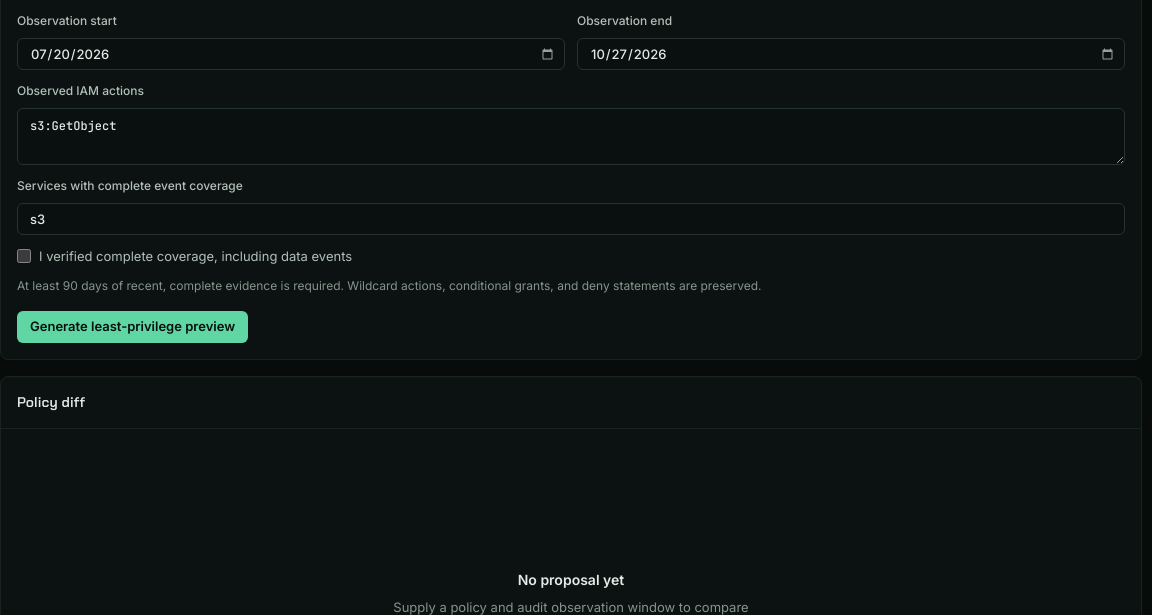
Test: Remediation hub › requires explicit coverage attestation and sends original evidence
The image size is (1152, 615).
(page scrolled)
What coordinates should you click on to do the following:
click the checkbox labelled "I verified complete coverage, including data events"
I would click on:
 (24, 256)
Its box is [17,249,31,263].
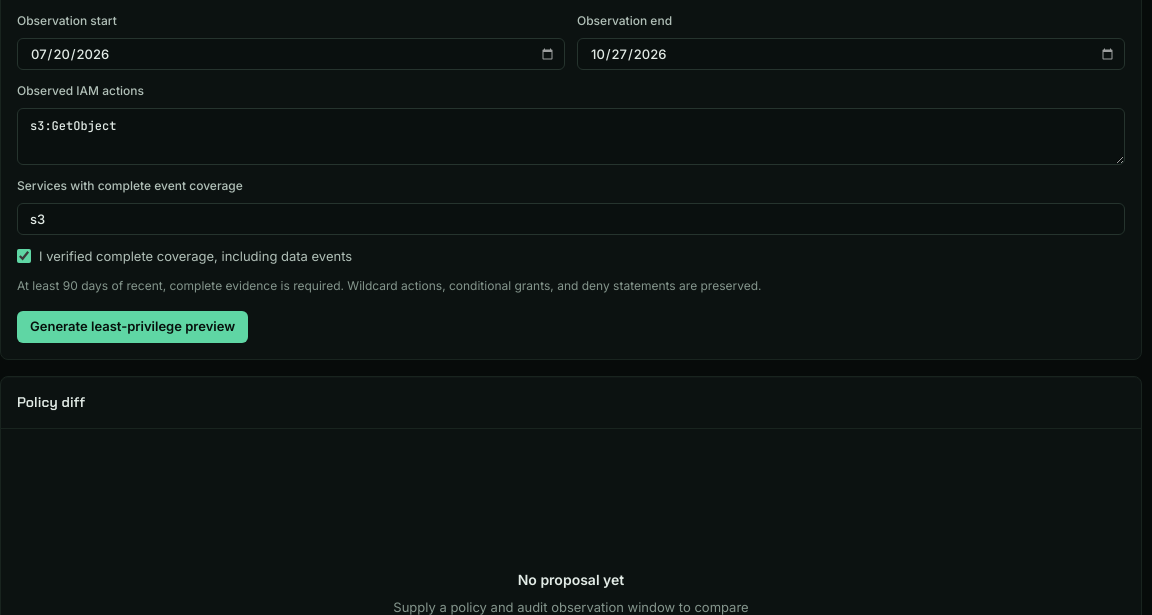
What coordinates should you click on to do the following:
click the button "Generate least-privilege preview"
I would click on:
 (133, 327)
Its box is [17,311,248,343].
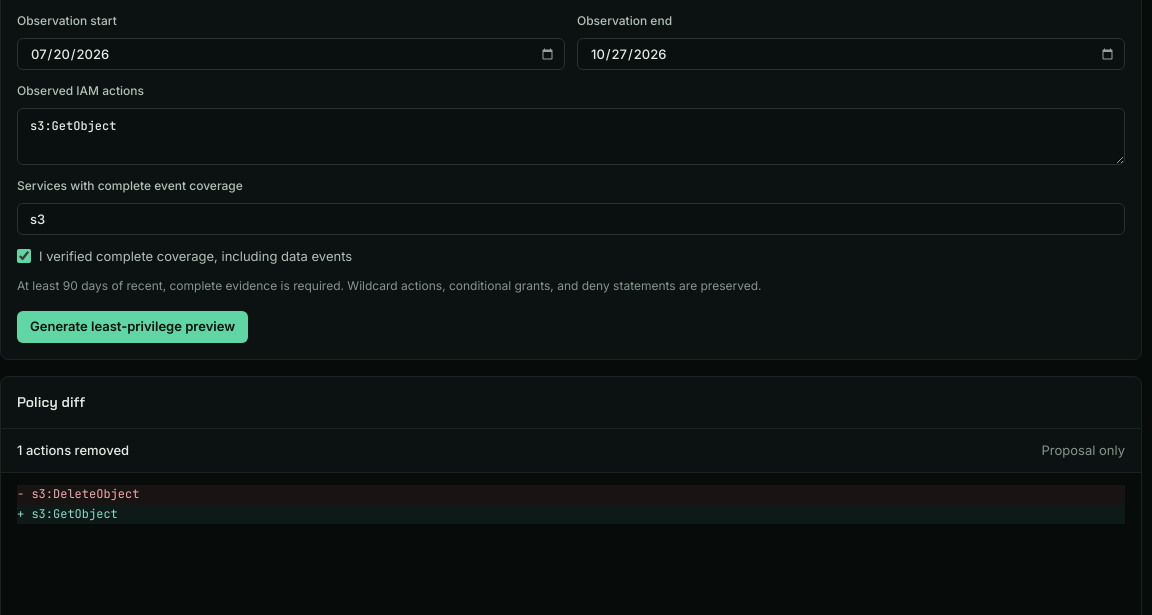
Now the text "1 actions removed" is shown, box [17,441,129,460]
